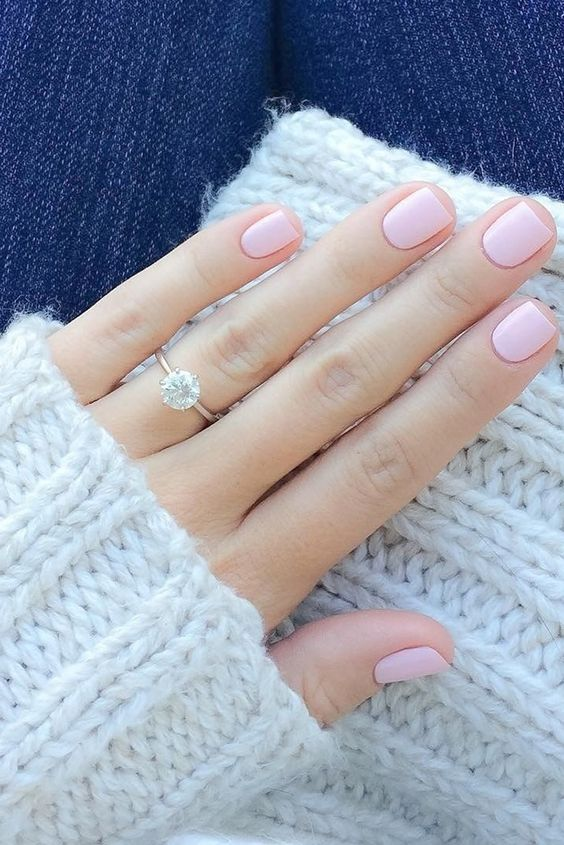nails: (361, 625, 469, 691), (477, 190, 560, 275), (378, 178, 461, 255), (486, 293, 564, 366), (229, 201, 311, 264)
